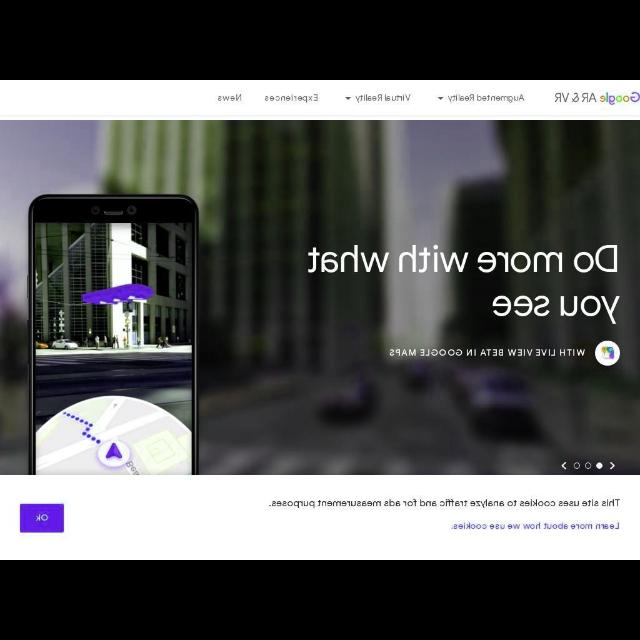backgroundimage: (1, 122, 636, 474)
icon: (436, 96, 444, 102), (344, 96, 352, 102)
iframe: (1, 475, 639, 557)
image: (598, 89, 638, 107), (596, 338, 620, 366), (554, 90, 596, 104)
link: (450, 520, 620, 532)
pageindicator: (560, 460, 616, 472)
spinner: (436, 92, 524, 106), (344, 93, 410, 105)
text: (304, 244, 618, 324), (266, 499, 620, 509), (388, 347, 586, 358), (264, 92, 318, 104), (448, 95, 522, 103), (355, 95, 409, 104), (216, 94, 242, 104), (36, 511, 49, 521)
textbutton: (20, 504, 64, 534)
toolbar: (1, 82, 639, 120)
